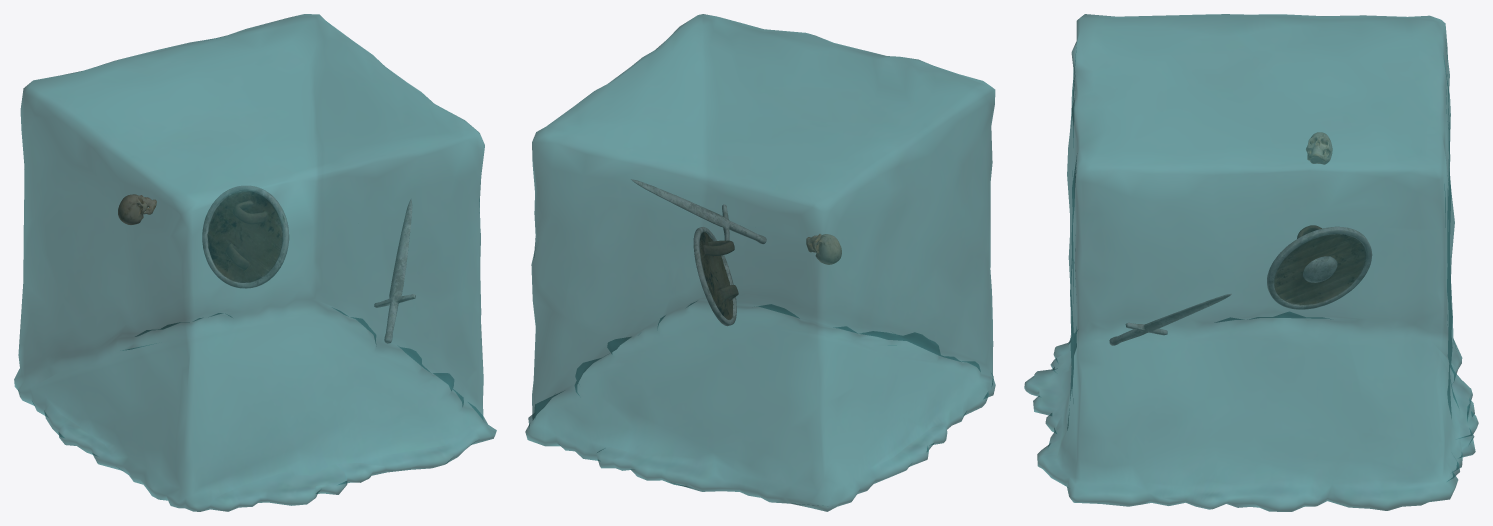
Rendered from MZ4250 - Gelatinous Cube.glb.
3 views of the same model, side by side, from view 1: azimuth 30°, elevation 25°; view 2: azimuth 150°, elevation 25°; view 3: azimuth 270°, elevation 25° (orthographic). The views are drawn at different scales.
Visible parts, largest first — view 1: GelatinousCube_shivtrick; view 2: GelatinousCube_shivtrick; view 3: GelatinousCube_shivtrick.
Part boxes in pixels (x1=…): GelatinousCube_shivtrick: x1=14, y1=14, x2=496, y2=511; GelatinousCube_shivtrick: x1=525, y1=14, x2=995, y2=511; GelatinousCube_shivtrick: x1=1024, y1=14, x2=1478, y2=511.
Bounding box in the file's own units: 1.47 × 1.23 × 1.5.
2 materials, 2 textured.
